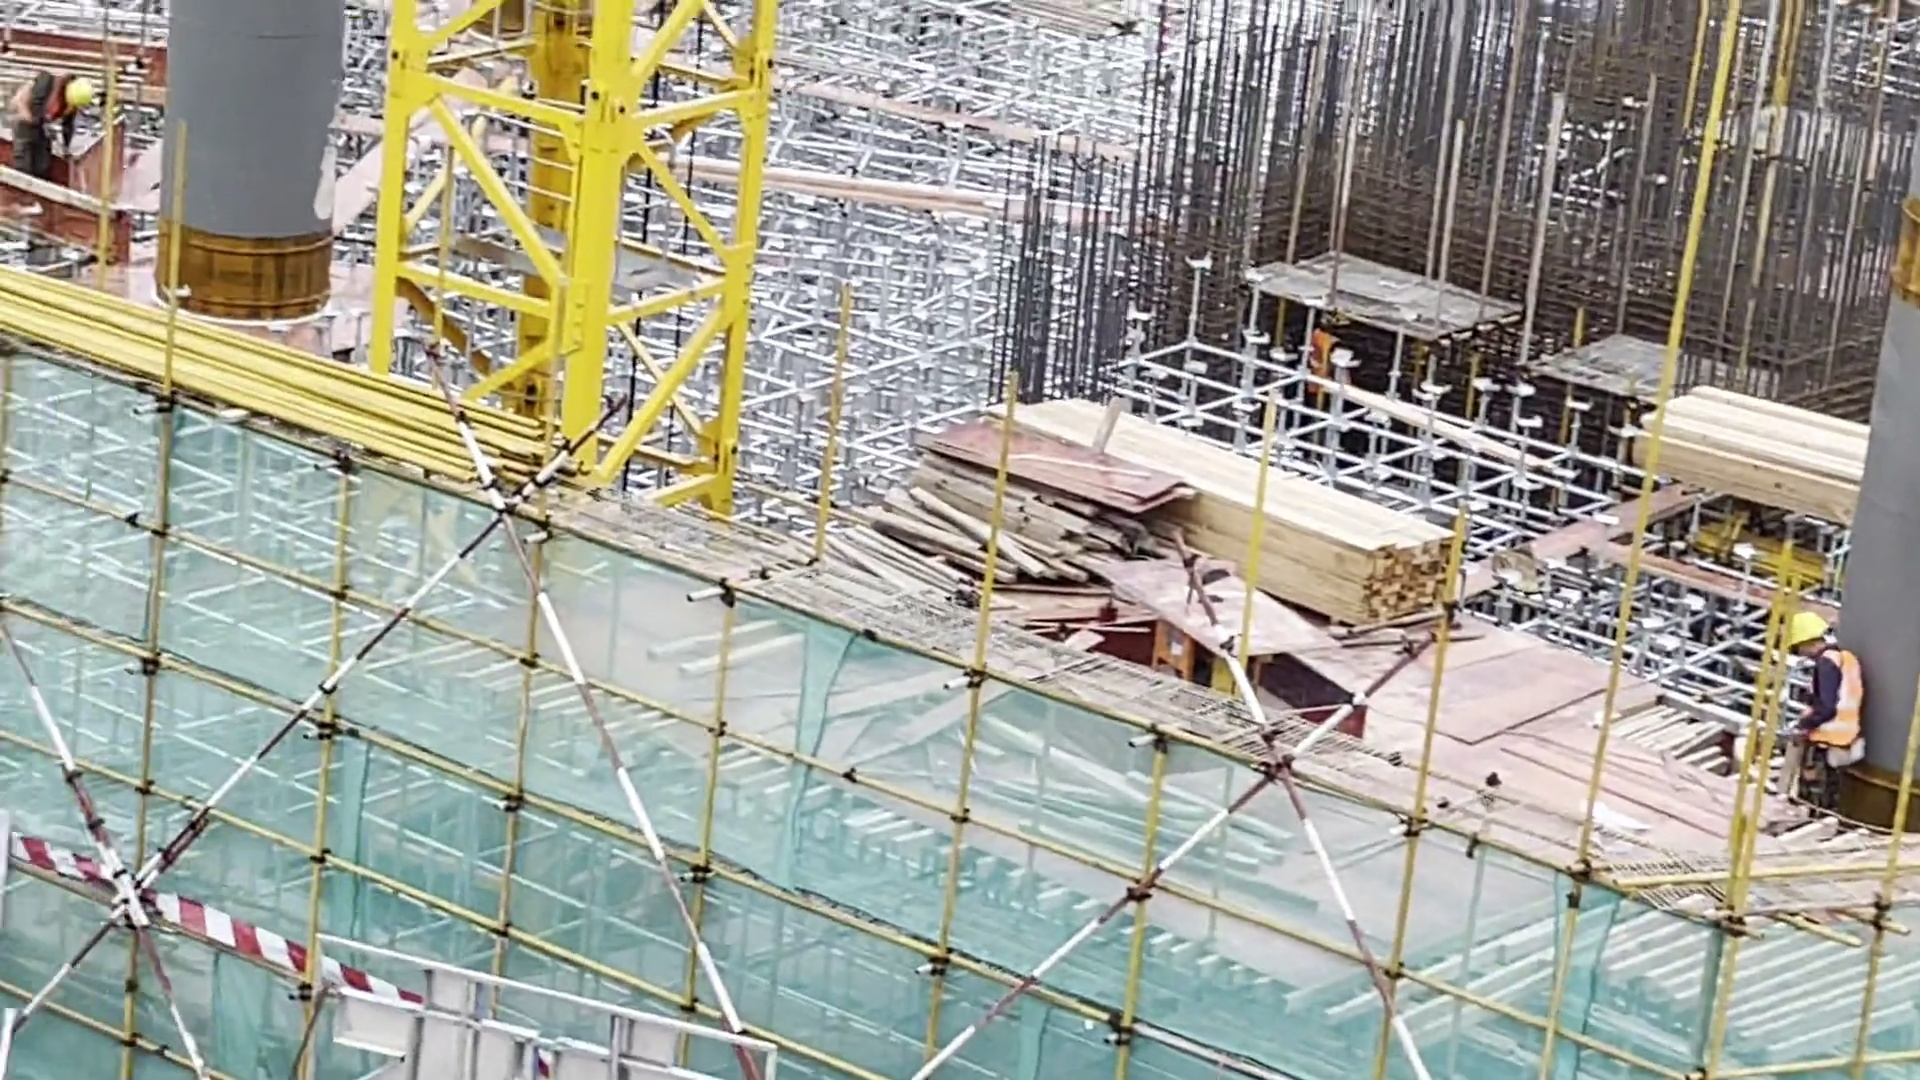cutter: (1101, 555, 1344, 696)
helmet: (1794, 602, 1829, 660), (69, 66, 95, 116)
person: (1782, 601, 1858, 828), (1, 51, 88, 181)
vest: (1811, 647, 1860, 748), (12, 75, 70, 129)
wood: (984, 401, 1450, 631), (817, 465, 1151, 604)
